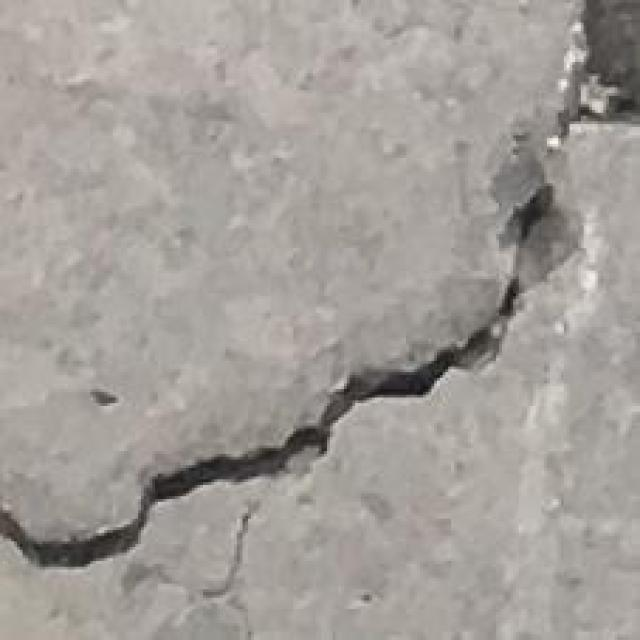Crack: (3, 3, 640, 569)
